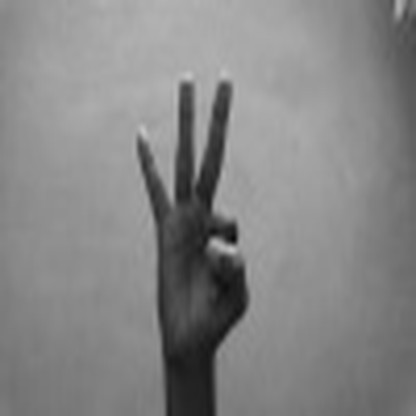f: (115, 70, 275, 347)
